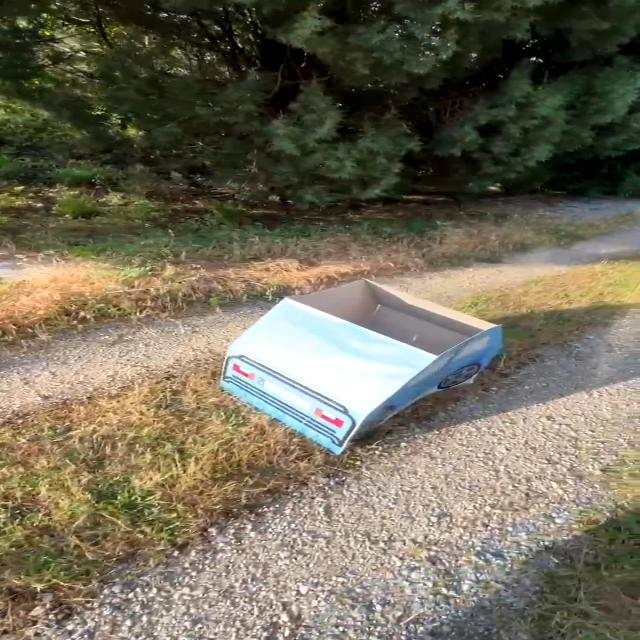blue_car: (174, 265, 555, 479)
